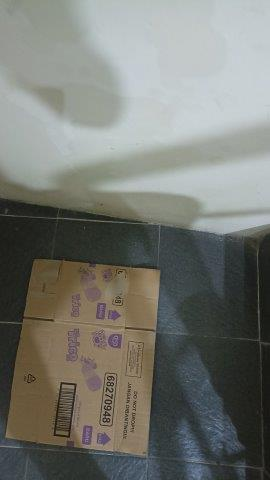kardus: (6, 260, 159, 454)
